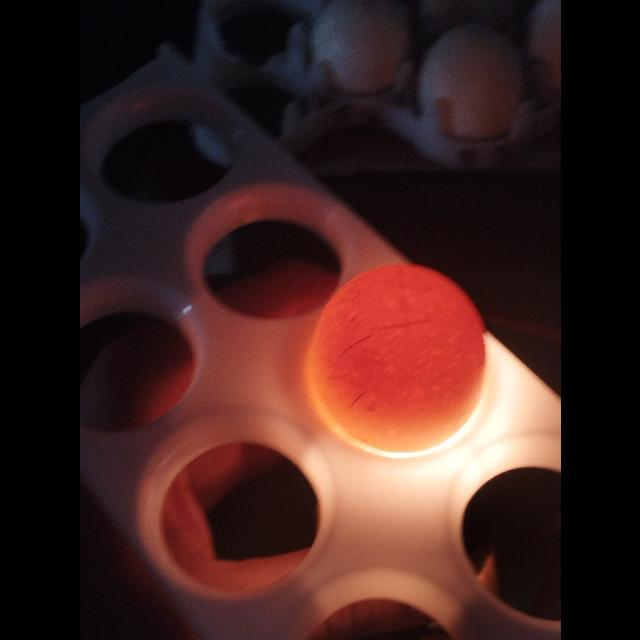Infertile: (306, 262, 490, 460)
